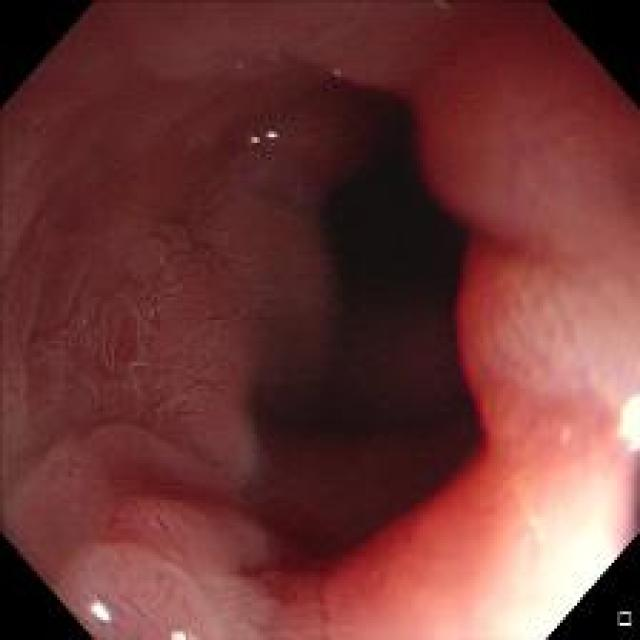blur: (238, 2, 636, 635)
color misalignment: (242, 122, 282, 151)
contrast: (236, 124, 485, 566)
saturation: (494, 510, 605, 628)
specularity: (611, 384, 639, 465), (79, 592, 121, 630), (169, 629, 186, 639)
